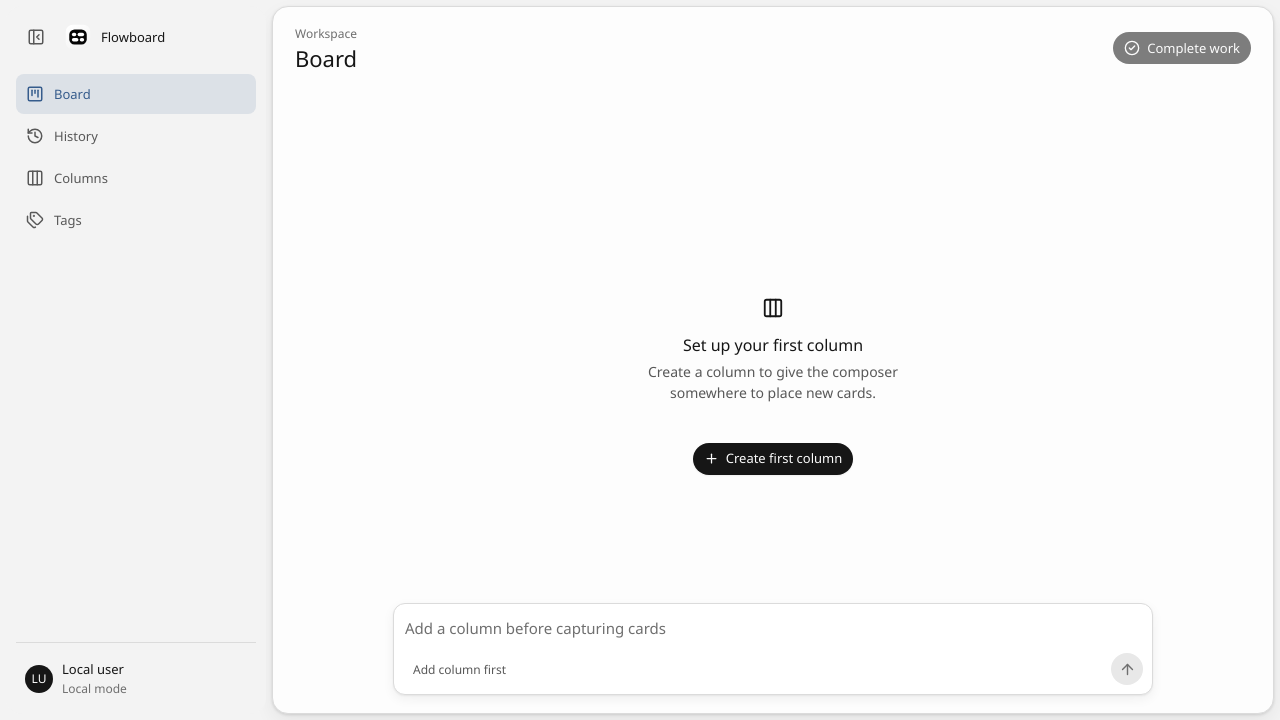
clear board lives in settings only when the board can be cleared
The image size is (1280, 720).
Expected: the button "clear board" is not shown
Click the button "Create first column": (773, 459) [693,443,853,475]
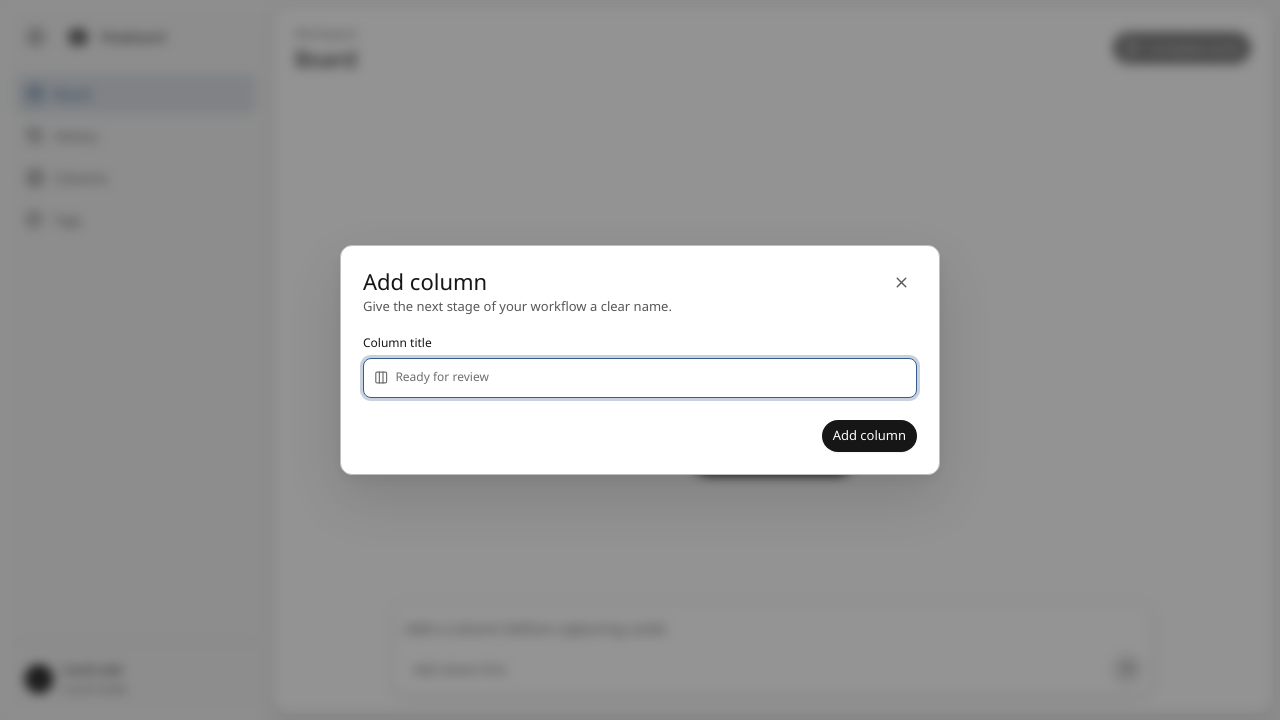
In the field labelled "Column title": (651, 378) [395,359,906,396], type "Todo"
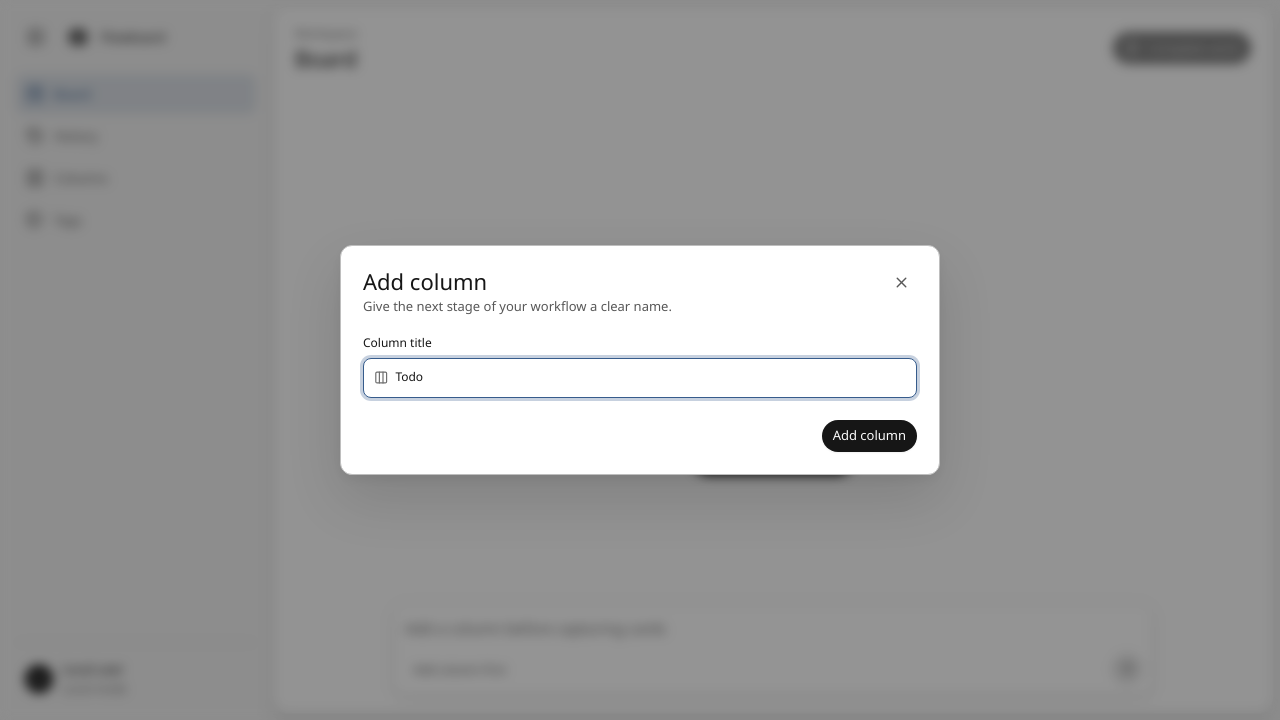
Click the button "Add column": (869, 436) [822,420,917,452]
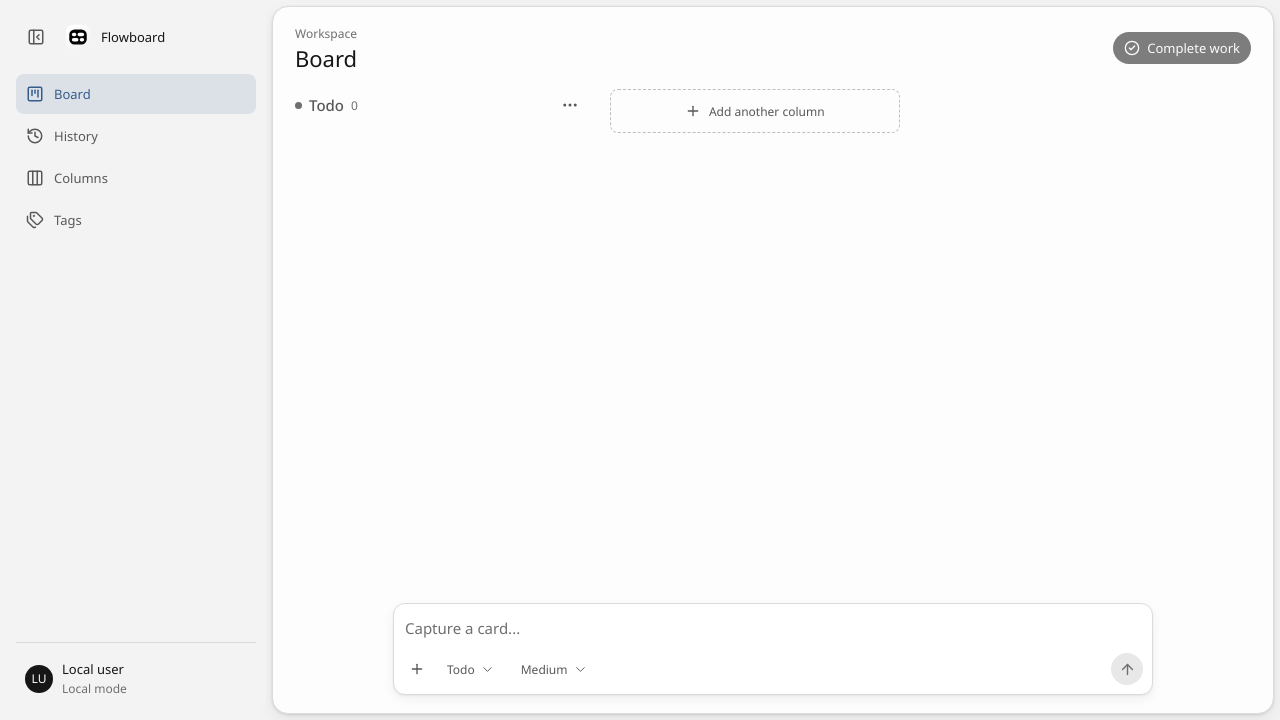
Expected: the button "clear board" is not shown
Now the dialog is gone
Click the button "LU Local user Local mode": (136, 678) [16,653,256,704]
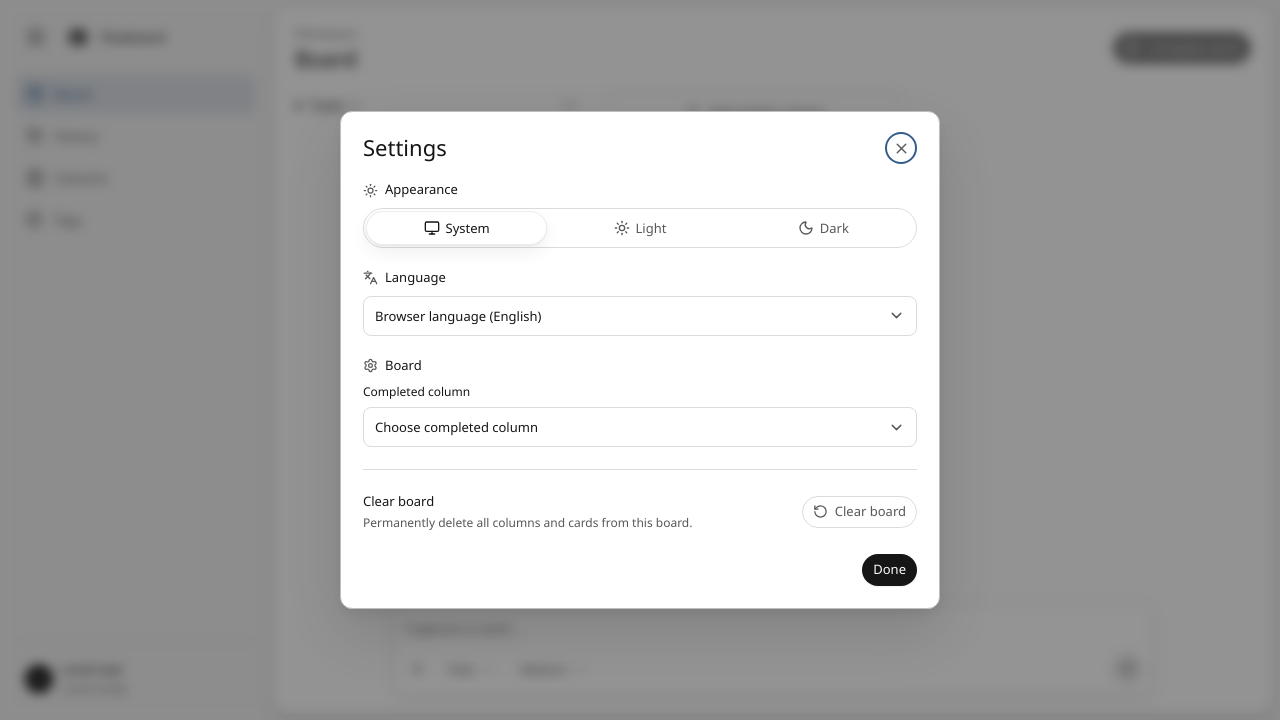
Now the dialog is shown, box [340,111,940,609]
Now the button "Clear board" is shown, box [802,496,917,528]
